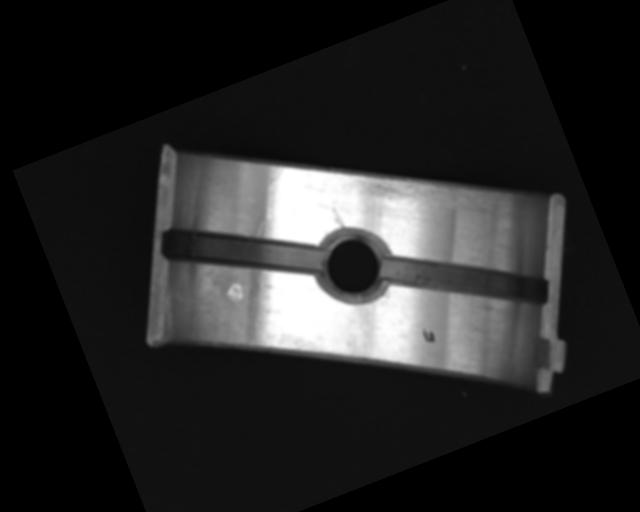blot: (419, 325, 437, 346)
bruise: (223, 281, 246, 305)
gap: (378, 208, 553, 352), (157, 185, 323, 317)
hole: (307, 220, 403, 314)
nick: (250, 162, 301, 221), (329, 205, 345, 231)
scratch: (356, 127, 509, 244)
